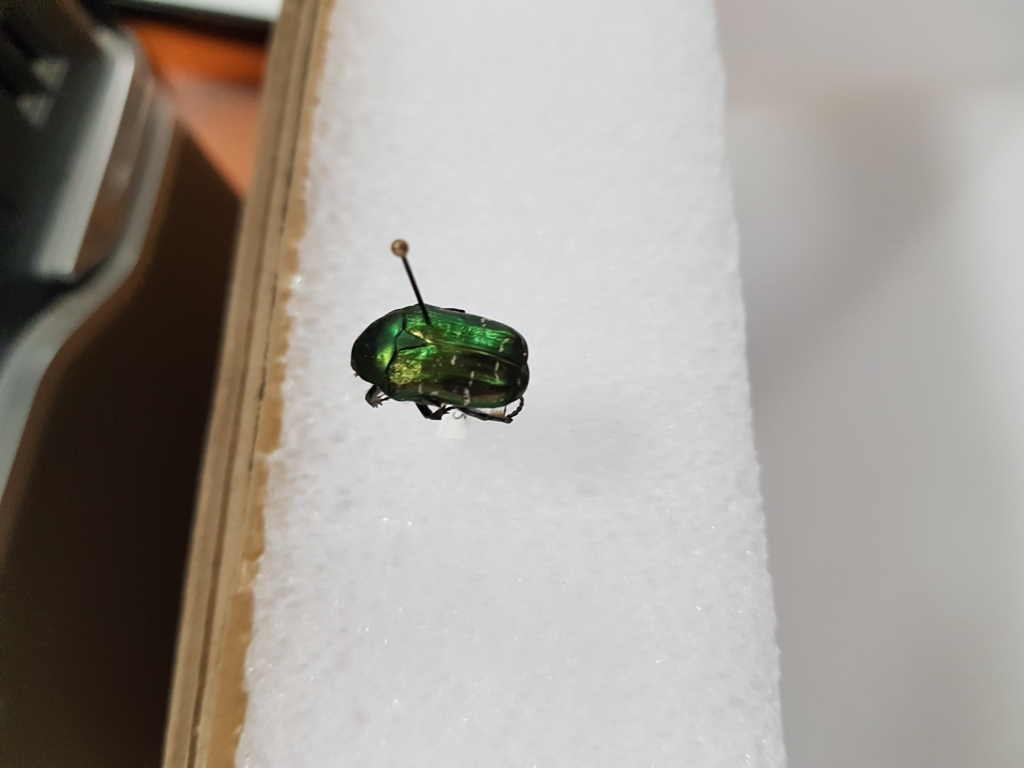Cetonia_kemali: (343, 295, 534, 430)
